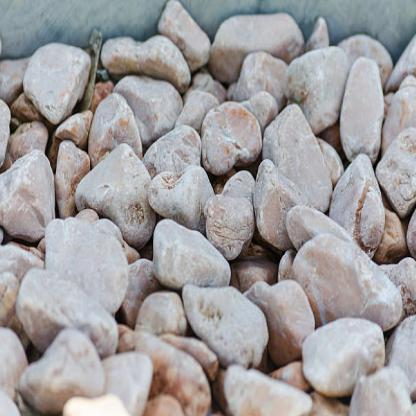Sedimentary_Limestone: (40, 213, 152, 320), (299, 228, 406, 334), (258, 103, 332, 249), (72, 146, 163, 240), (334, 56, 396, 186), (99, 31, 208, 102), (210, 10, 317, 82), (0, 145, 58, 274), (20, 326, 106, 413), (326, 158, 402, 253), (187, 176, 264, 267), (23, 40, 97, 134), (201, 94, 269, 182), (284, 198, 363, 270), (218, 362, 322, 415), (349, 372, 415, 415)
